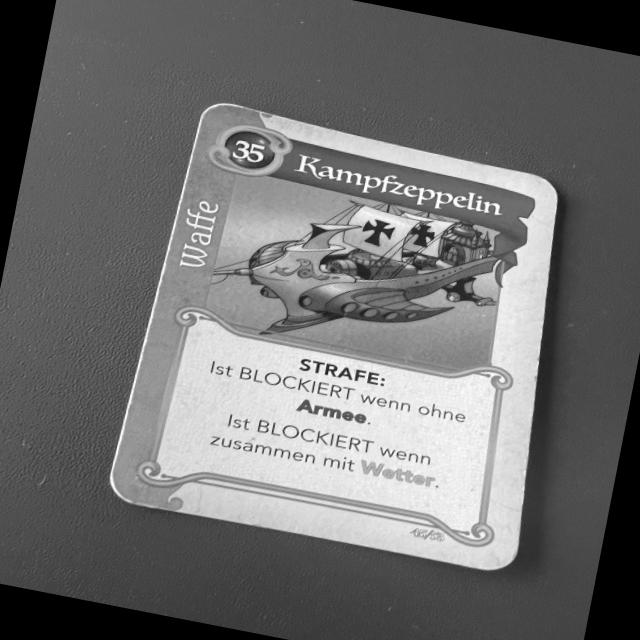War Dirigable: (90, 95, 568, 591)
